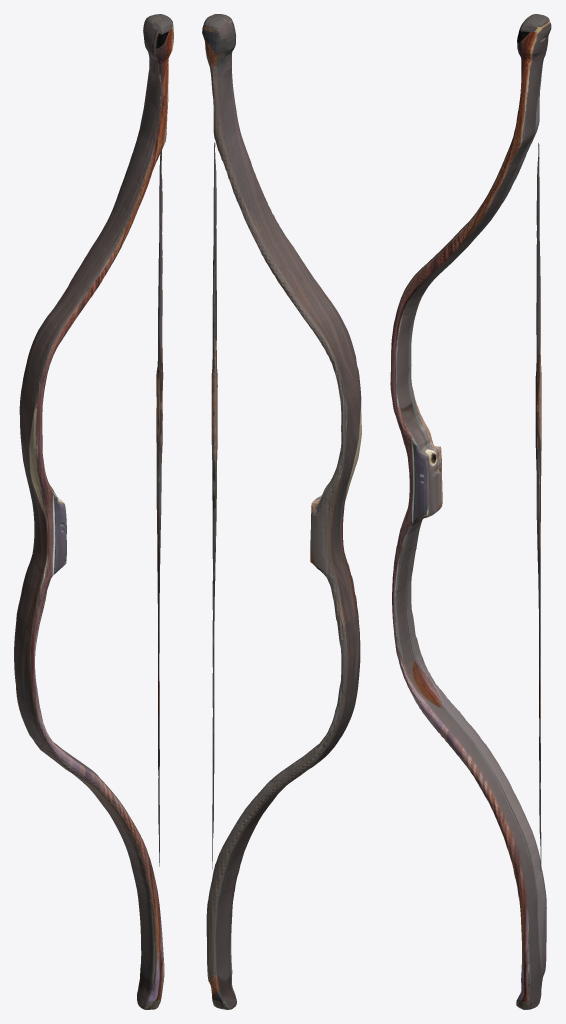
Rendered from wood_Bow_0527131115_texture.fbx.
3 views of the same model, side by side, from view 1: azimuth 30°, elevation 25°; view 2: azimuth 150°, elevation 25°; view 3: azimuth 330°, elevation 25° (orthographic).
Parts seen in each view (by area): view 1: temp; view 2: temp; view 3: temp.
Part boxes in pixels (x1=…): temp: x1=14, y1=14, x2=173, y2=1009; temp: x1=202, y1=14, x2=361, y2=1009; temp: x1=390, y1=14, x2=551, y2=1009.
Size of the model in its own units: 31.65 by 200 by 9.
1 material, 1 textured.
